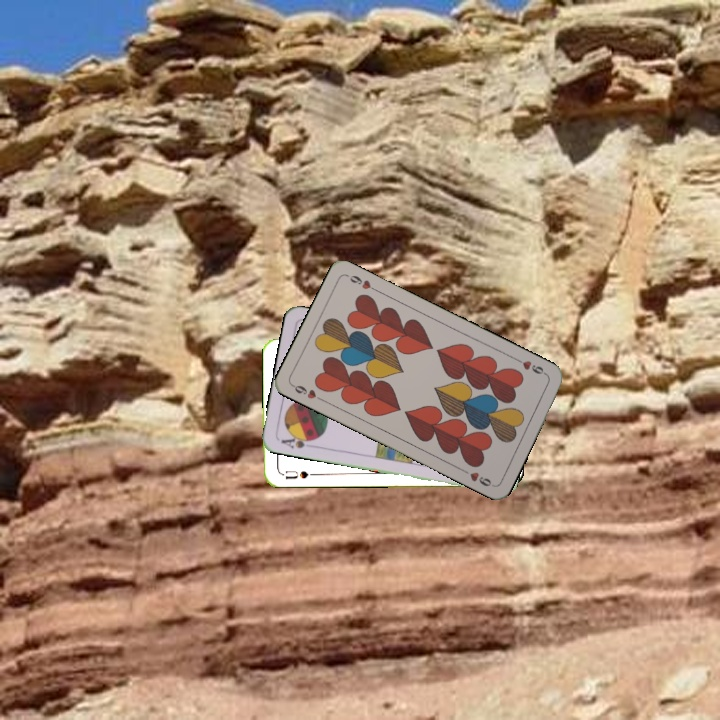H9: (512, 354, 550, 378), (288, 381, 326, 404)
SA: (277, 431, 317, 451)
SU: (278, 467, 318, 482)
